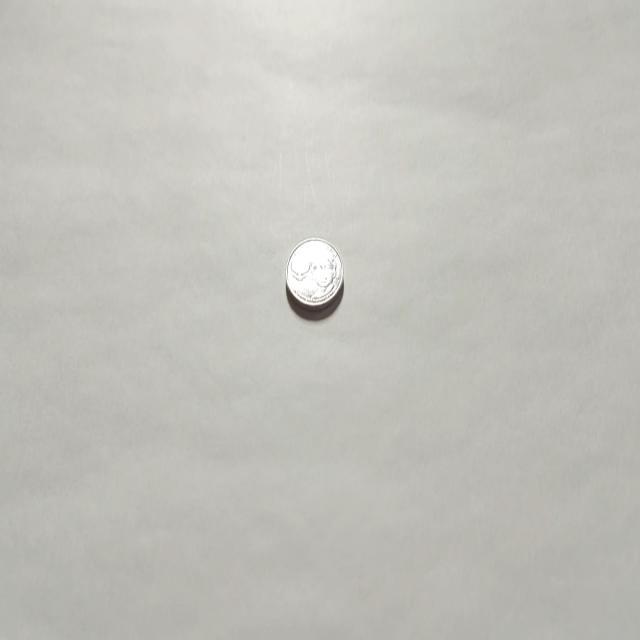dua ratus rupiah: (284, 235, 344, 312)
